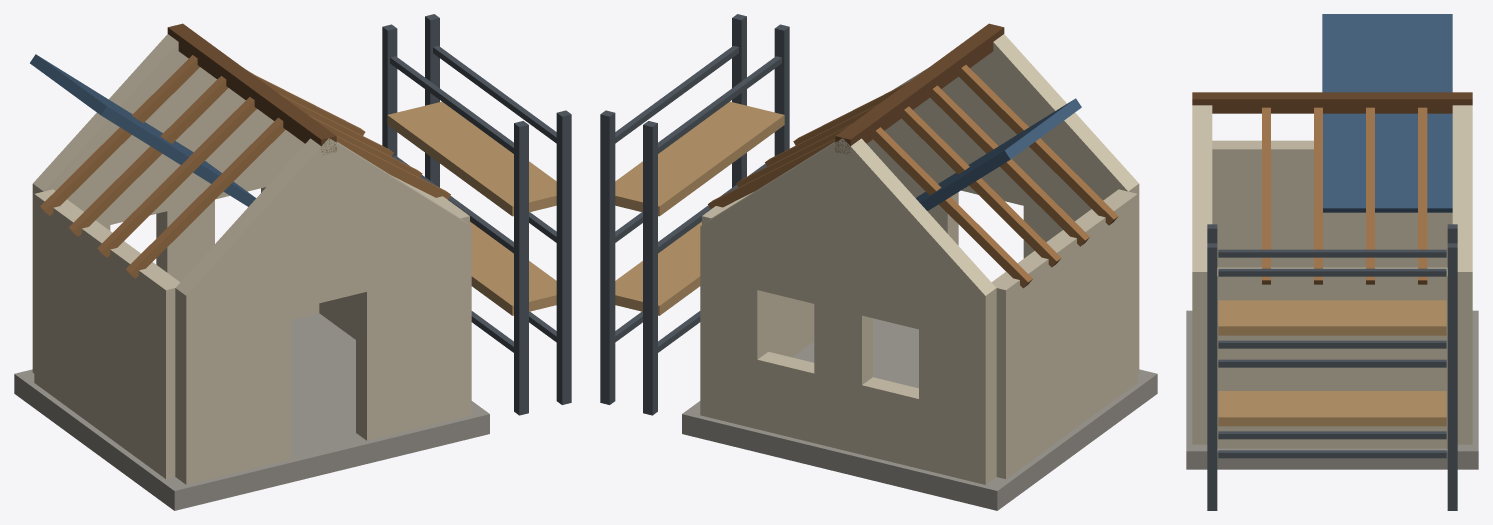
The model's file is v2-house-roofing.glb.
3 views of the same model, side by side, from view 1: azimuth 30°, elevation 25°; view 2: azimuth 150°, elevation 25°; view 3: azimuth 270°, elevation 25° (orthographic). The views are drawn at different scales.
Visible parts, largest first — view 1: v2-house-roofing; view 2: v2-house-roofing; view 3: v2-house-roofing.
Boxes of the visible parts, x1,y1,x2,y2 form: v2-house-roofing: (14,14,571,510); v2-house-roofing: (600,14,1157,510); v2-house-roofing: (1186,14,1478,510).
Bounding box in the file's own units: 2.19 × 1.75 × 1.46.
